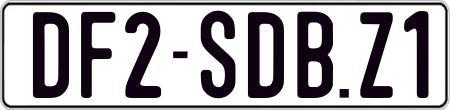1: (401, 11, 425, 98)
2: (122, 9, 160, 95)
B: (297, 10, 336, 102)
D: (245, 10, 286, 96), (33, 11, 70, 102)
F: (80, 9, 119, 97)
S: (201, 10, 239, 99)
Z: (360, 12, 396, 99)
